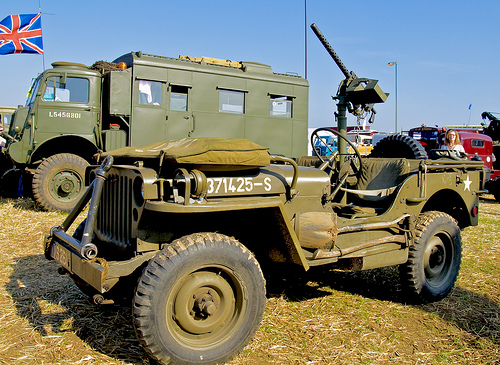rifle: (311, 23, 387, 129)
